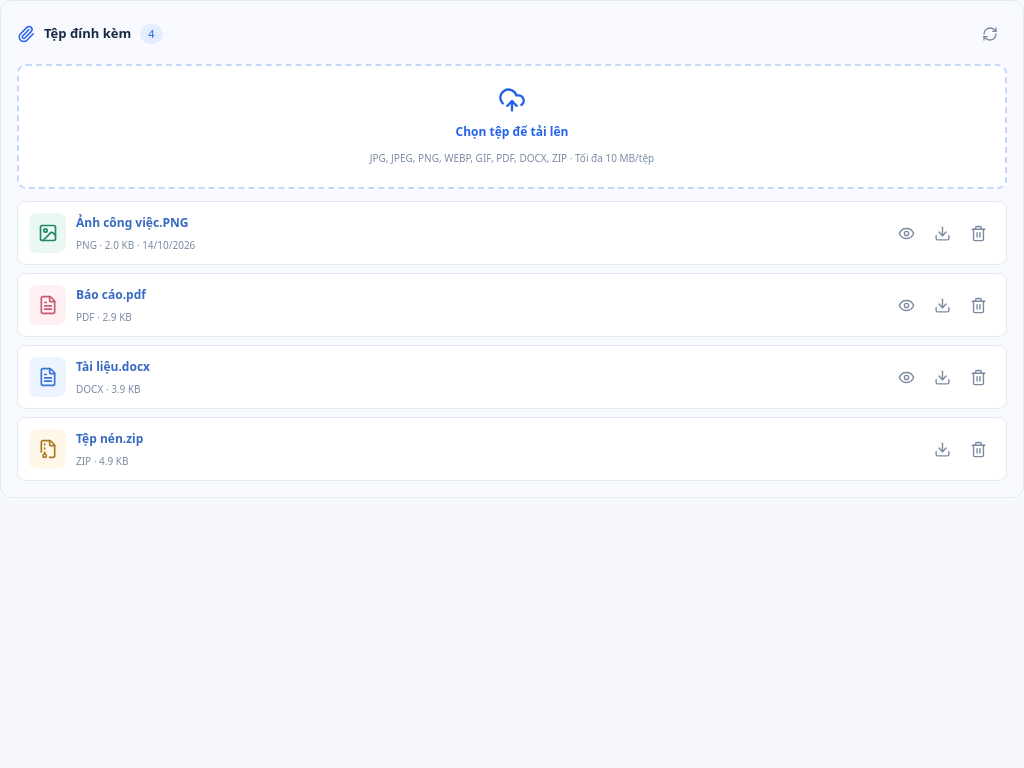
Scenario: Task attachment management › handles failed DOCX rendering without exposing private exception details
This screenshot has width=1024, height=768.
Expected: the file field named "Chọn tệp đính kèm" is enabled, [0,85,1023,127]
What coordinates should you click on to do the following:
click the button named "Xem Tài liệu.docx"
I would click on:
 (906, 377)
Its box is [889,360,923,394].
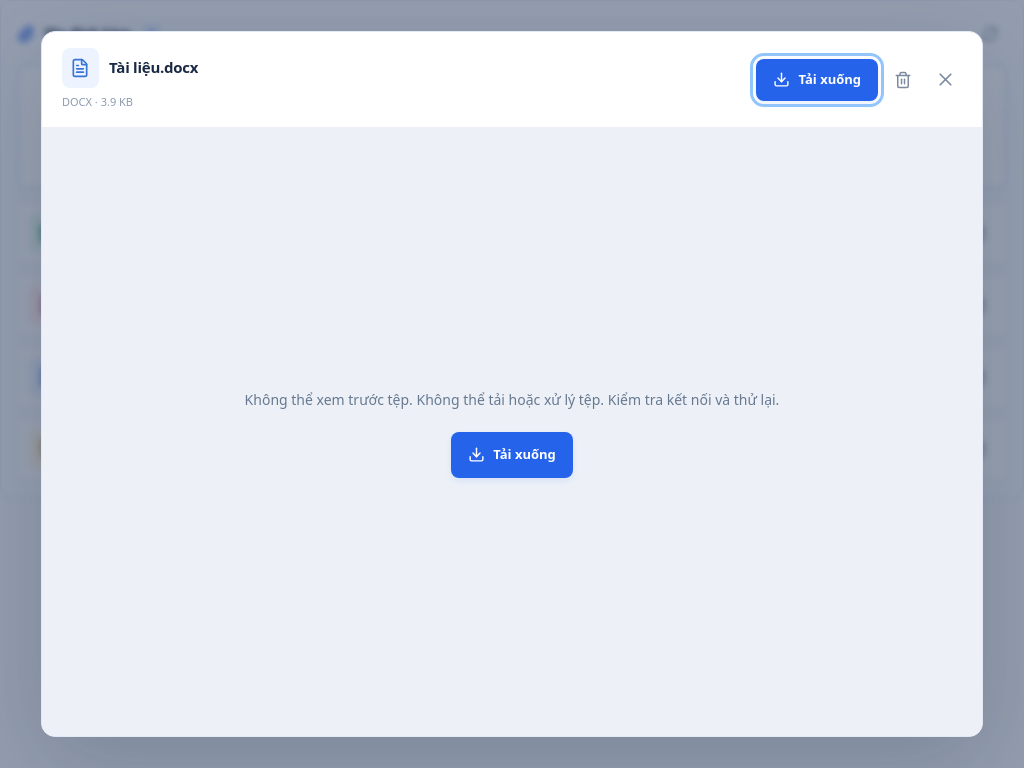
Expected: the message does not show "private", [245,390,779,478]
Result: the message shows "Không thể xem trước" at [245,390,779,409]
Result: the 2nd button "Tải xuống" is enabled at [451,432,573,478]
